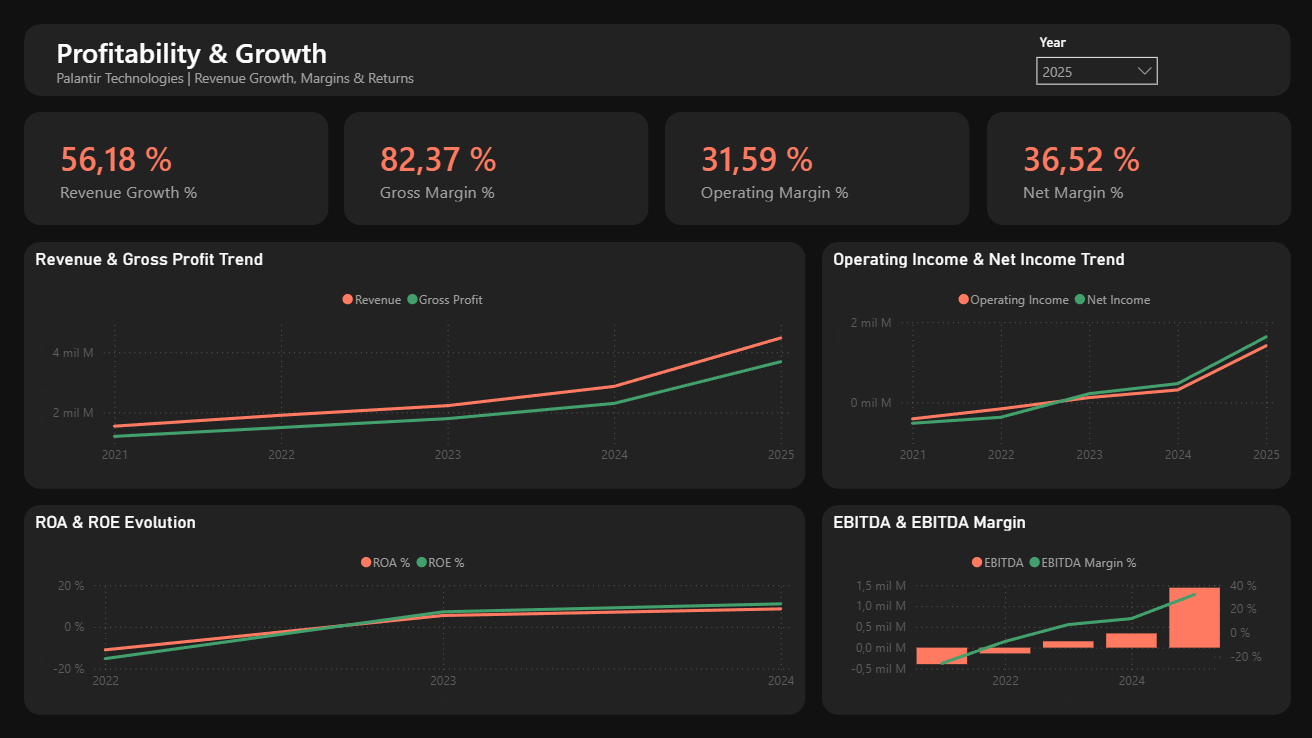

What the dashboard file says about the page in this screenshot:
{"tool":"powerbi","page":{"name":"Profitability & Growth","canvas":[1280,720],"ordinal":1},"visuals":[{"type":"shape","box":[24,24,1232,70],"z":0},{"type":"textbox","box":[51,28,620,50],"z":1000},{"type":"textbox","box":[51,62,620,28],"z":2000},{"type":"slicer","fields":{"Values":["Dim_Year.Year"]},"box":[994,24.3,148,66.1],"z":3000},{"type":"cardVisual","fields":{"Data":["Medidas.Revenue Growth %"]},"box":[24.3,110,296,110],"z":4000},{"type":"cardVisual","fields":{"Data":["Medidas.Gross Margin %"]},"box":[336,110,296,110],"z":5000},{"type":"cardVisual","fields":{"Data":["Medidas.Operating Margin %"]},"box":[648,110,296,110],"z":6000},{"type":"cardVisual","fields":{"Data":["Medidas.Net Margin %"]},"box":[961,110,296,110],"z":7000},{"type":"lineChart","title":"Revenue & Gross Profit Trend","fields":{"Category":["Dim_Year.Year"],"Y":["Medidas.Revenue","Medidas.Gross Profit"]},"box":[24,236,760,240],"z":8000},{"type":"lineChart","title":"Operating Income & Net Income Trend","fields":{"Category":["Dim_Year.Year"],"Y":["Medidas.Operating Income","Medidas.Net Income"]},"box":[800,236.4,456,240],"z":13001},{"type":"lineChart","title":"ROA & ROE Evolution","fields":{"Category":["Dim_Year.Year"],"Y":["Medidas.ROA %","Medidas.ROE %"]},"box":[24,492,760,204],"z":13002},{"type":"lineClusteredColumnComboChart","title":"EBITDA & EBITDA Margin","fields":{"Category":["Dim_Year.Year"],"Y":["Medidas.EBITDA"],"Y2":["Medidas.EBITDA Margin %"]},"box":[800,492,456,204],"z":13003}]}

Visuals, with their boxes in screenshot pixels (x1, y1, x2, y2), scaled from the page's 1280x720 canvas onto the 1312x738 screenshot:
shape: bbox=(25, 25, 1287, 96)
textbox: bbox=(52, 29, 688, 80)
textbox: bbox=(52, 64, 688, 92)
slicer - Dim_Year.Year: bbox=(1019, 25, 1171, 93)
cardVisual - Medidas.Revenue Growth %: bbox=(25, 113, 328, 225)
cardVisual - Medidas.Gross Margin %: bbox=(344, 113, 648, 225)
cardVisual - Medidas.Operating Margin %: bbox=(664, 113, 968, 225)
cardVisual - Medidas.Net Margin %: bbox=(985, 113, 1288, 225)
"Revenue & Gross Profit Trend" lineChart: bbox=(25, 242, 804, 488)
"Operating Income & Net Income Trend" lineChart: bbox=(820, 242, 1287, 488)
"ROA & ROE Evolution" lineChart: bbox=(25, 504, 804, 713)
"EBITDA & EBITDA Margin" lineClusteredColumnComboChart: bbox=(820, 504, 1287, 713)
